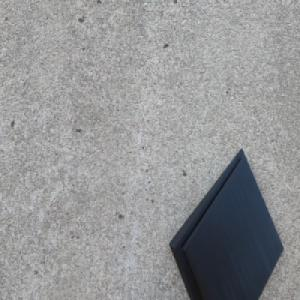PlasticPart: (167, 145, 285, 300)
